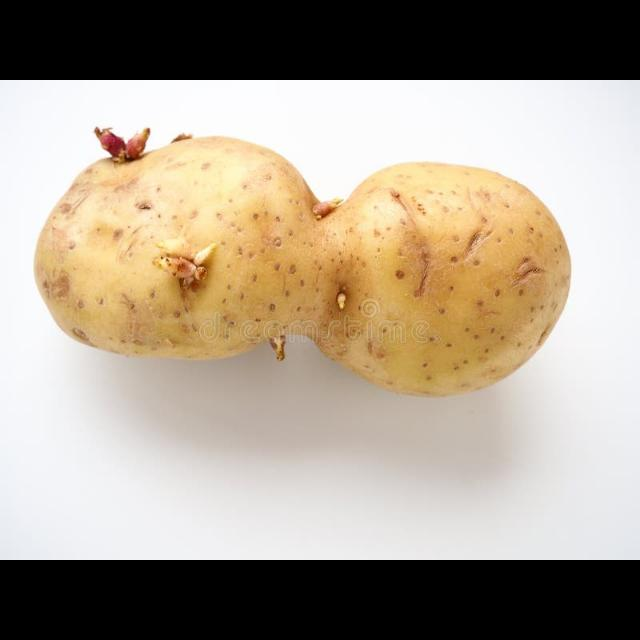Sprouted potato: (21, 101, 578, 416)
